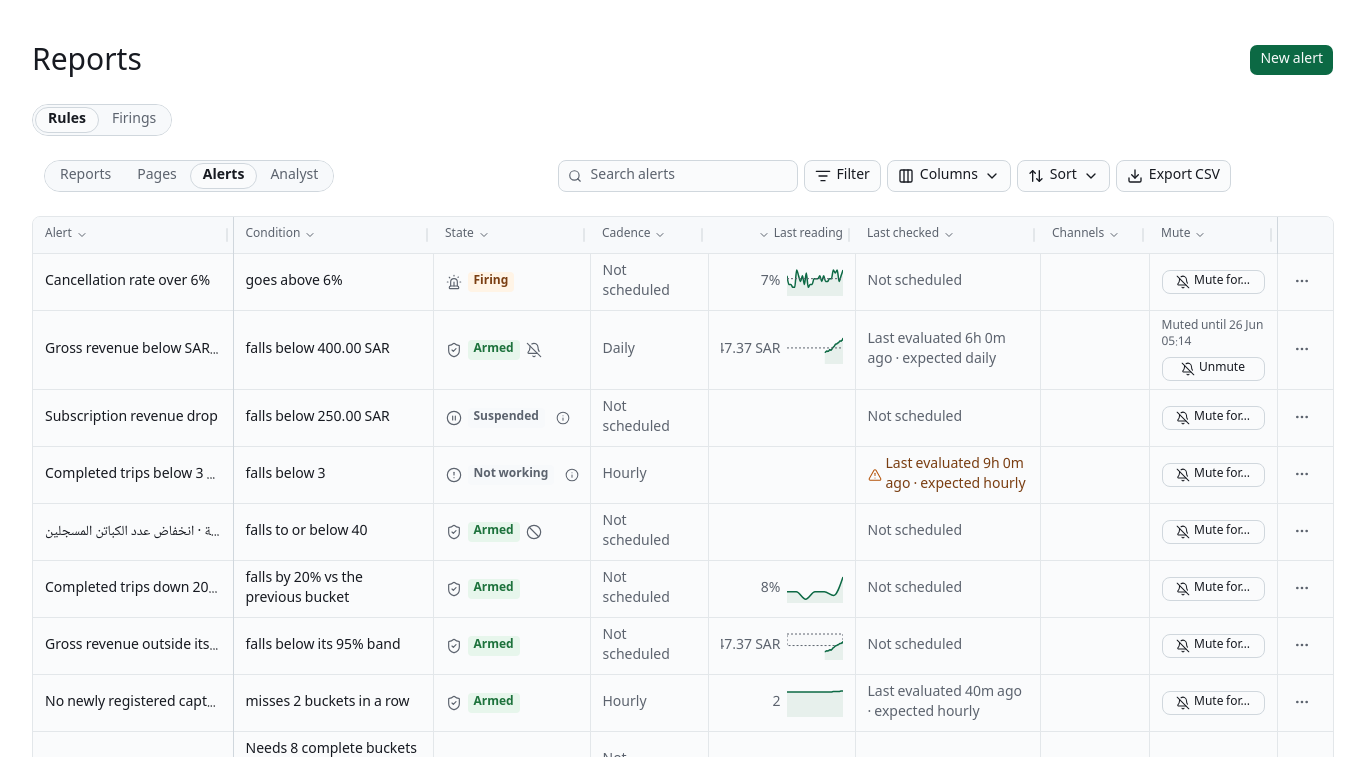
Test: §12 — the client half of alerts, and the two fields nobody has decided › AC-877 — Test this rule says *would have* and changes nothing
Expected: the row that starts with "Cancellation rate over 6%" is shown, left=33, top=254, right=1333, bottom=310
Click the button named "More actions" at (1302, 280), box left=1290, top=268, right=1314, bottom=292
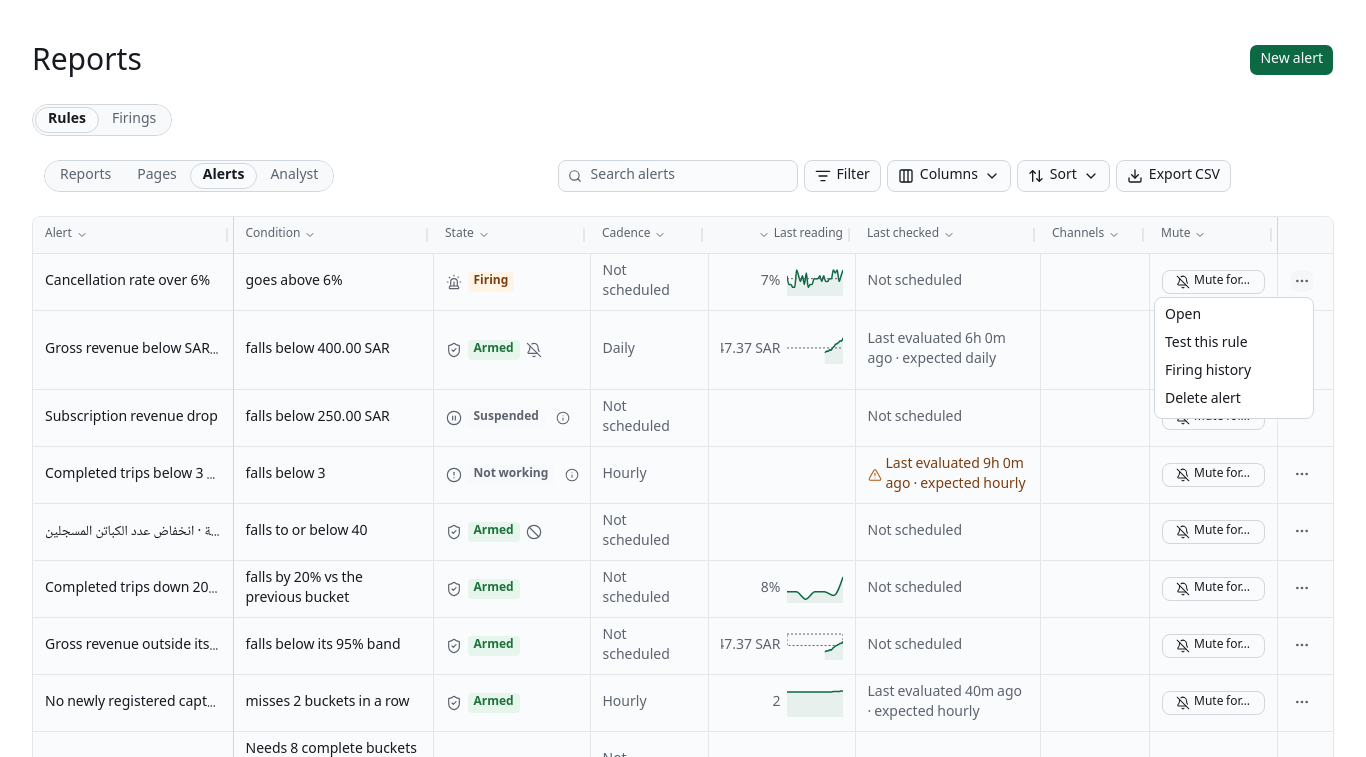
Click the menu item "Test this rule" at (1206, 344), box left=1165, top=332, right=1248, bottom=356
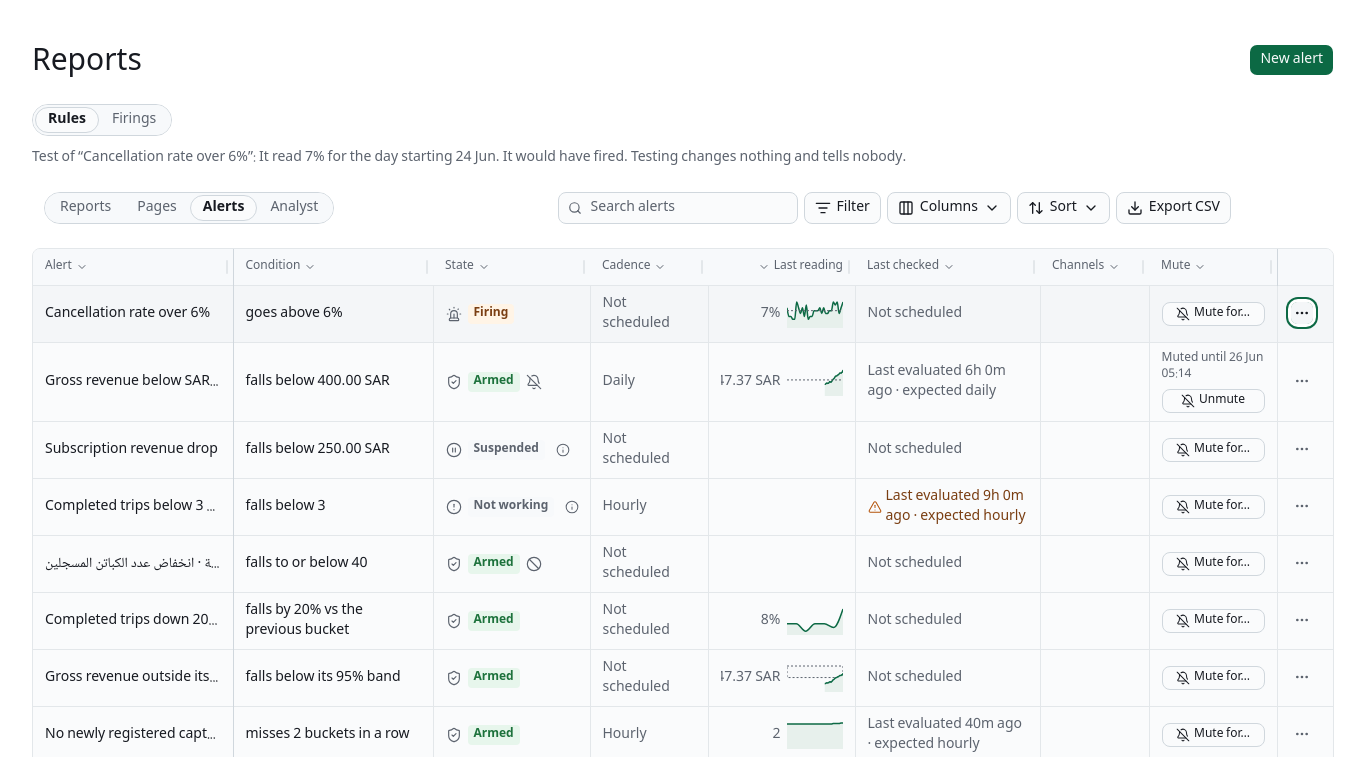
Expected: the text "Firing" is shown, left=468, top=304, right=514, bottom=324
Expected: the message is shown, left=32, top=146, right=906, bottom=170
